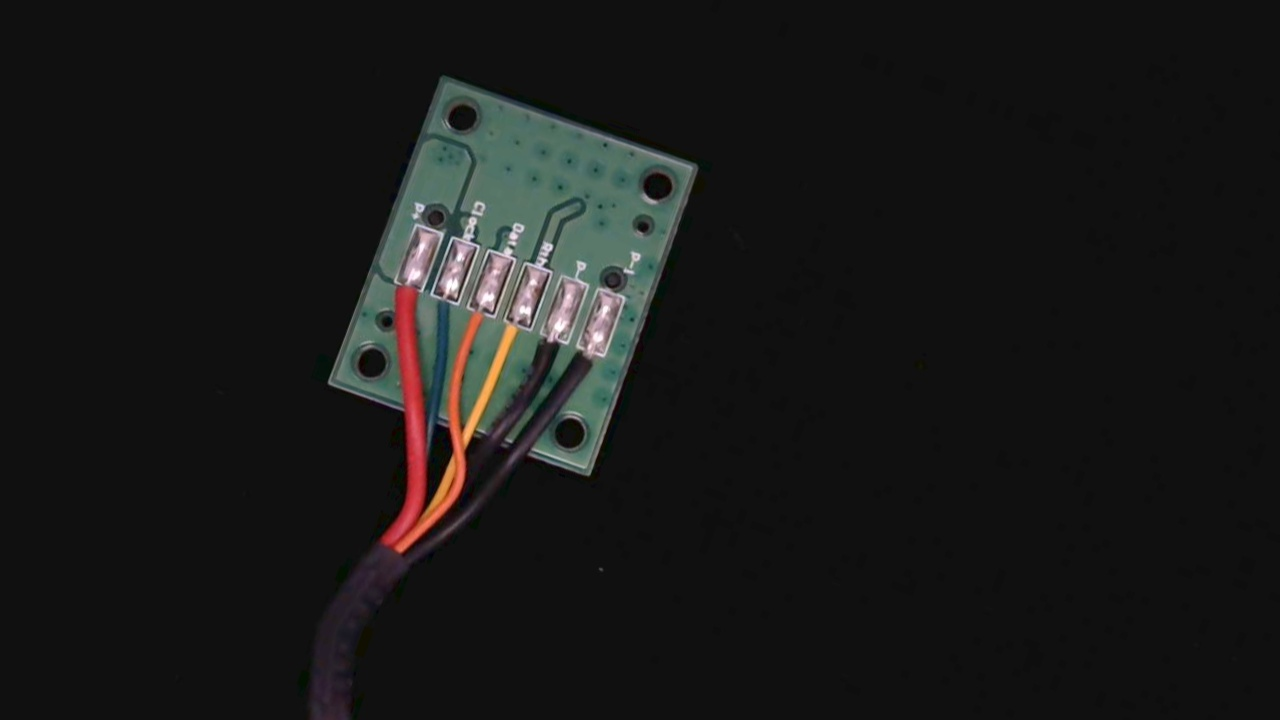Black: (516, 317, 573, 397)
Black1: (556, 330, 610, 405)
Green: (412, 276, 468, 353)
Orange: (448, 290, 503, 369)
Red: (372, 266, 428, 344)
Yellow: (482, 303, 539, 384)
